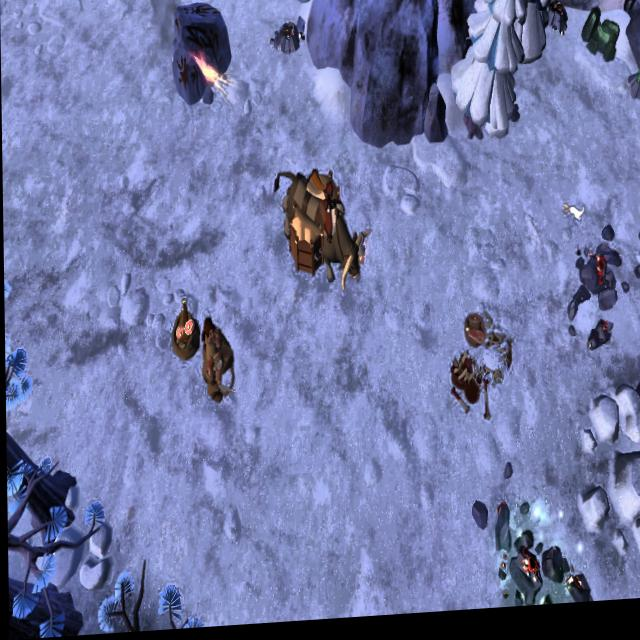enemy_factionKeeper: (199, 317, 225, 410)
rock_t3: (579, 9, 621, 75)
